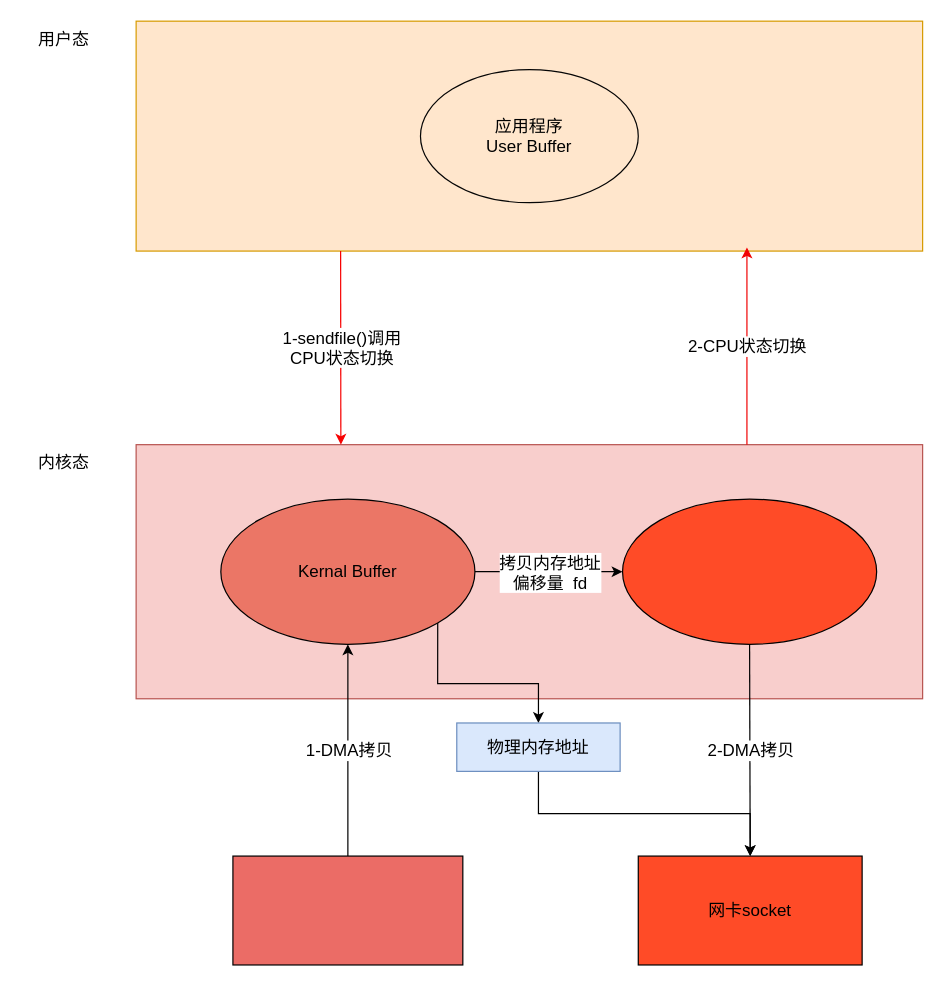
Image size: 944x986. Some labels were removed from this diagram. Here are the shapes that lost their labels. From the top down, the centre of each, then its label:
At point (749, 571): "Socket Buffer".
At point (347, 910): "磁盘".
